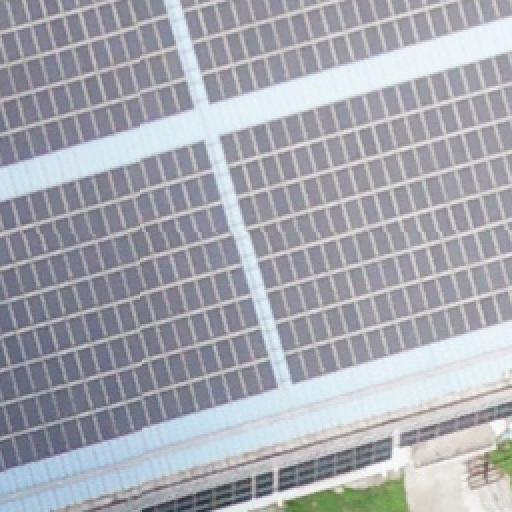solar-panel: (220, 48, 512, 384), (1, 138, 279, 470), (180, 0, 512, 104), (0, 1, 196, 167)
